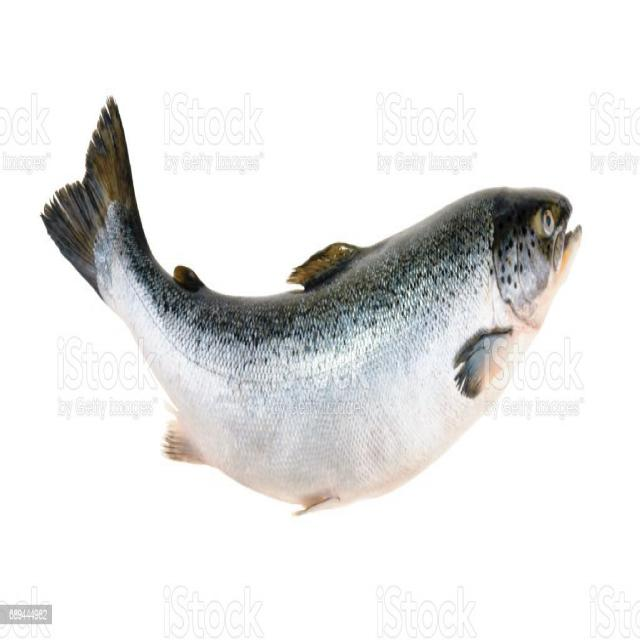salmon: (34, 74, 591, 529)
